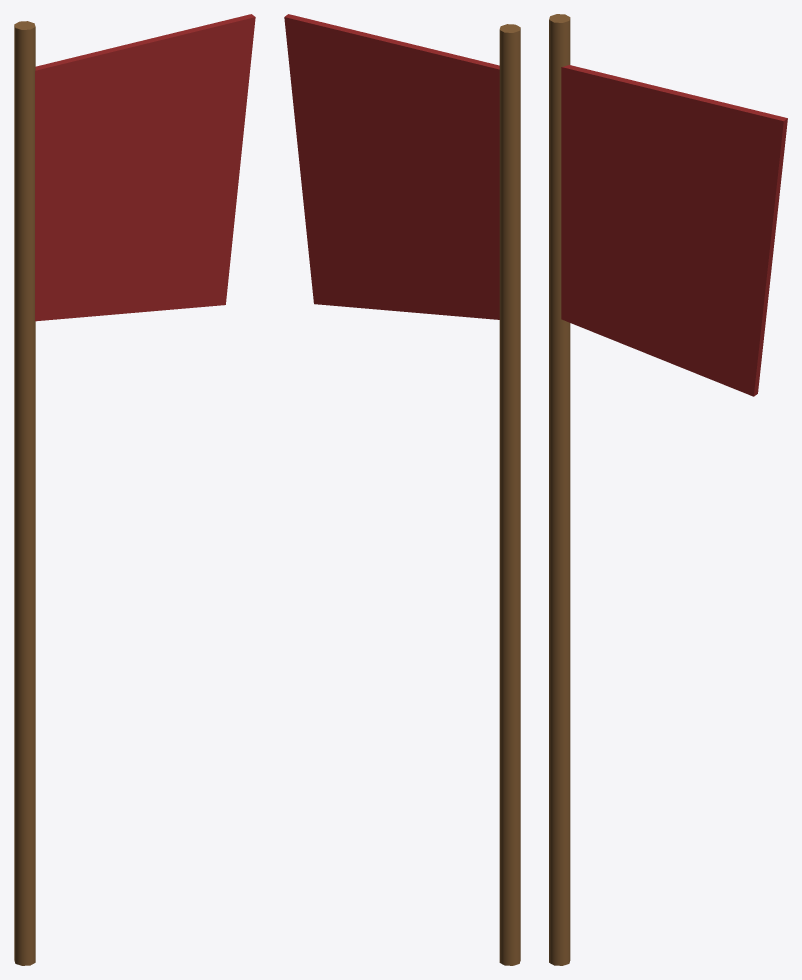
The model's file is conquistador-standard.glb.
3 views of the same model, side by side, from view 1: azimuth 30°, elevation 25°; view 2: azimuth 150°, elevation 25°; view 3: azimuth 330°, elevation 25° (orthographic).
Parts seen in each view (by area): view 1: Flag, Pole; view 2: Flag, Pole; view 3: Flag, Pole.
Boxes of the visible parts, left/top/right/bottom form: Flag: left=35, top=14, right=255, bottom=321; Pole: left=14, top=21, right=35, bottom=965; Flag: left=284, top=14, right=499, bottom=319; Pole: left=499, top=24, right=520, bottom=965; Flag: left=561, top=65, right=787, bottom=396; Pole: left=549, top=14, right=570, bottom=965.
Size of the model in its own units: 0.396 by 1.5 by 0.032.
